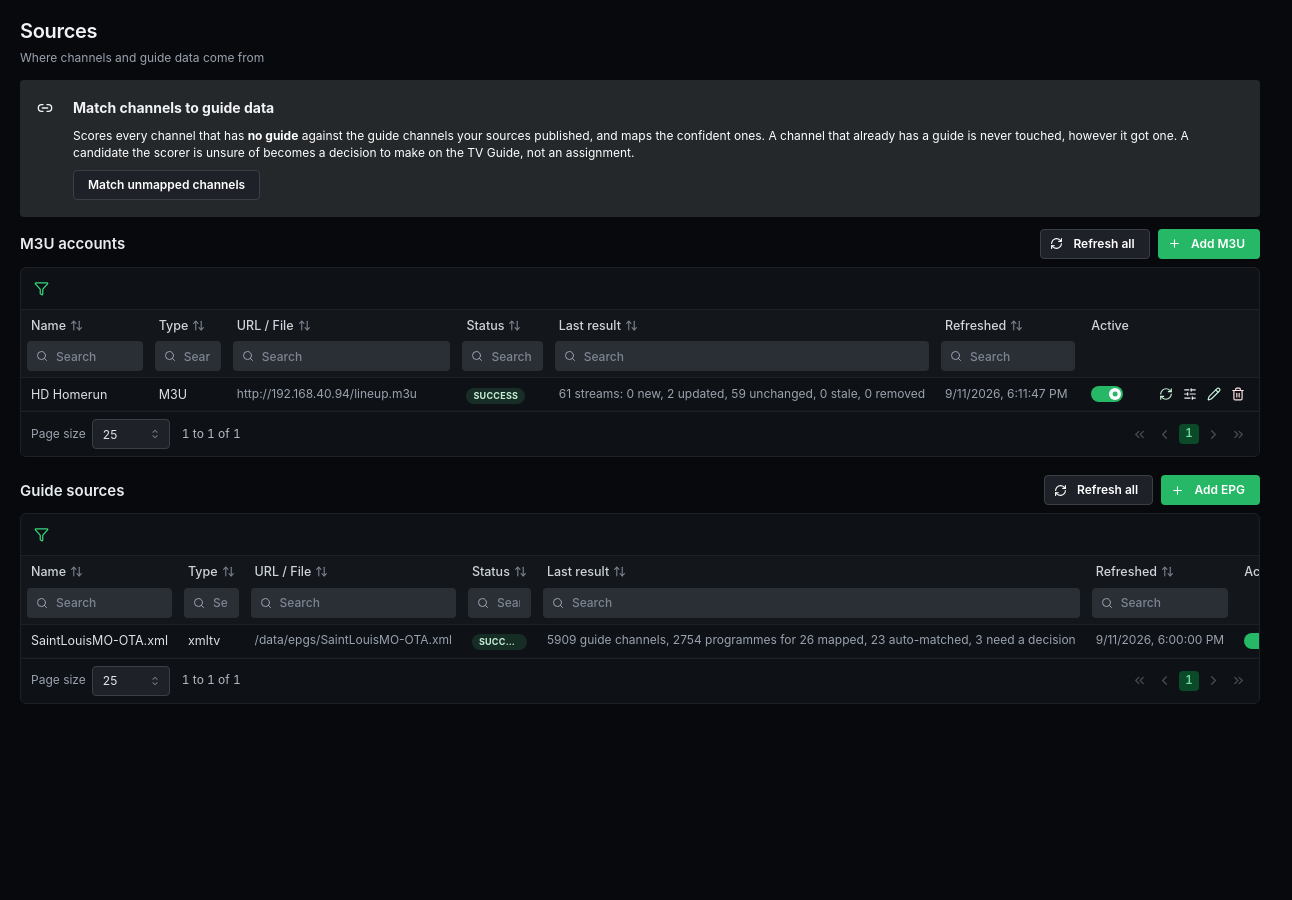
Test: matching unmapped channels › reloads the decisions so the new ones appear at once
The image size is (1292, 900).
Check: the text "HD Homerun" is shown, box 21,378 -> 149,411
Click the button "Match unmapped channels". click: {"x": 167, "y": 185}
box: 73,170 -> 260,200
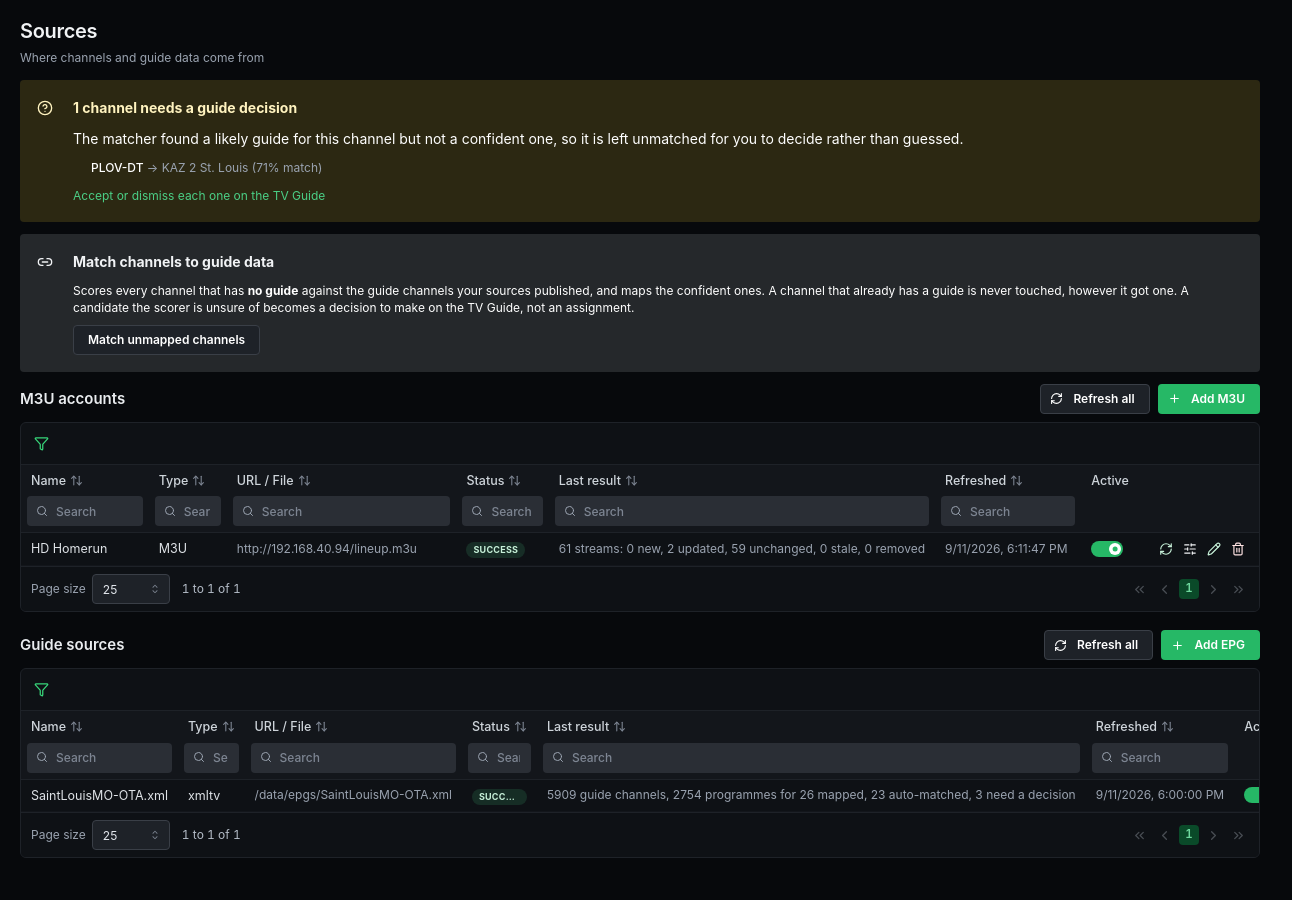
Check: the text "1 channel needs a guide decision" is shown, box 73,97 -> 297,118
